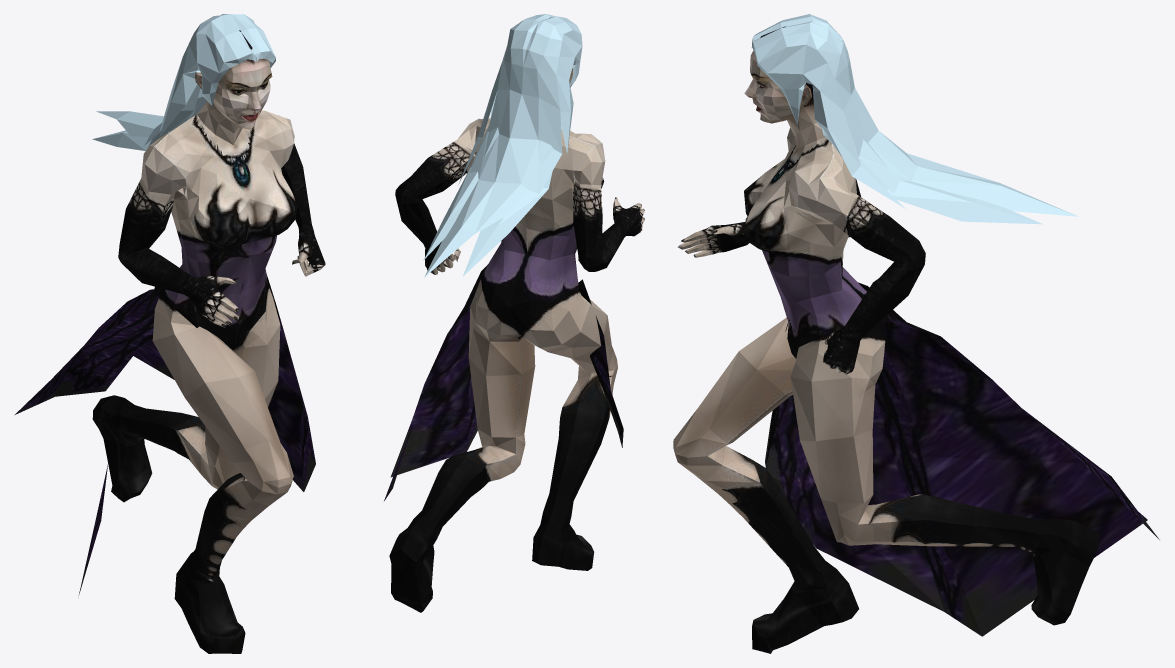
Rendered from running_014.obj.
3 renders of one model, left to right at view 1: azimuth 30°, elevation 25°; view 2: azimuth 150°, elevation 25°; view 3: azimuth 270°, elevation 25°, orthographic. The views are drawn at different scales.
Parts seen in each view (by area): view 1: Plane.001_Plane.007, Plane.003_Plane.008, capelli.001_Plane.006; view 2: Plane.001_Plane.007, capelli.001_Plane.006, Plane.003_Plane.008; view 3: Plane.001_Plane.007, Plane.003_Plane.008, capelli.001_Plane.006.
Boxes of the visible parts, box(x1,y1,x2,y2) form: Plane.001_Plane.007: box(92, 30, 325, 653); Plane.003_Plane.008: box(15, 274, 315, 595); capelli.001_Plane.006: box(92, 14, 275, 150); Plane.001_Plane.007: box(389, 17, 644, 612); capelli.001_Plane.006: box(423, 14, 582, 276); Plane.003_Plane.008: box(384, 264, 623, 500); Plane.001_Plane.007: box(673, 26, 1100, 653); Plane.003_Plane.008: box(765, 282, 1159, 636); capelli.001_Plane.006: box(751, 14, 1078, 224).
Bounding box in the file's own units: 1.71 × 5.04 × 3.42.
